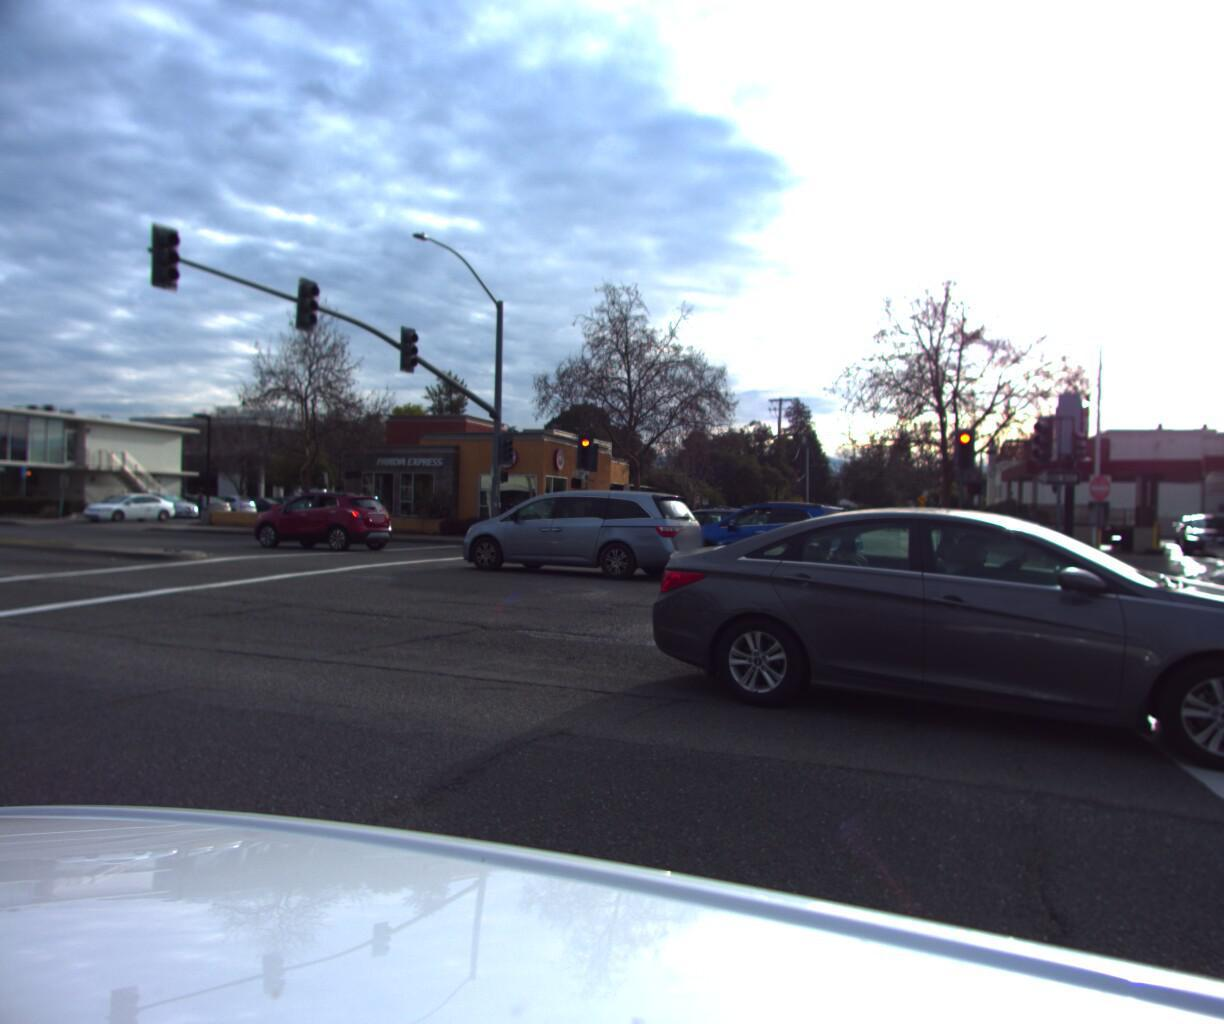car: (630, 498, 1224, 795), (447, 484, 712, 581), (679, 500, 870, 575), (626, 503, 808, 568), (246, 487, 409, 554), (80, 495, 178, 525), (884, 513, 906, 530)
